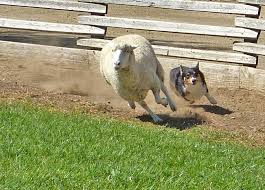sheep: (99, 33, 178, 123)
